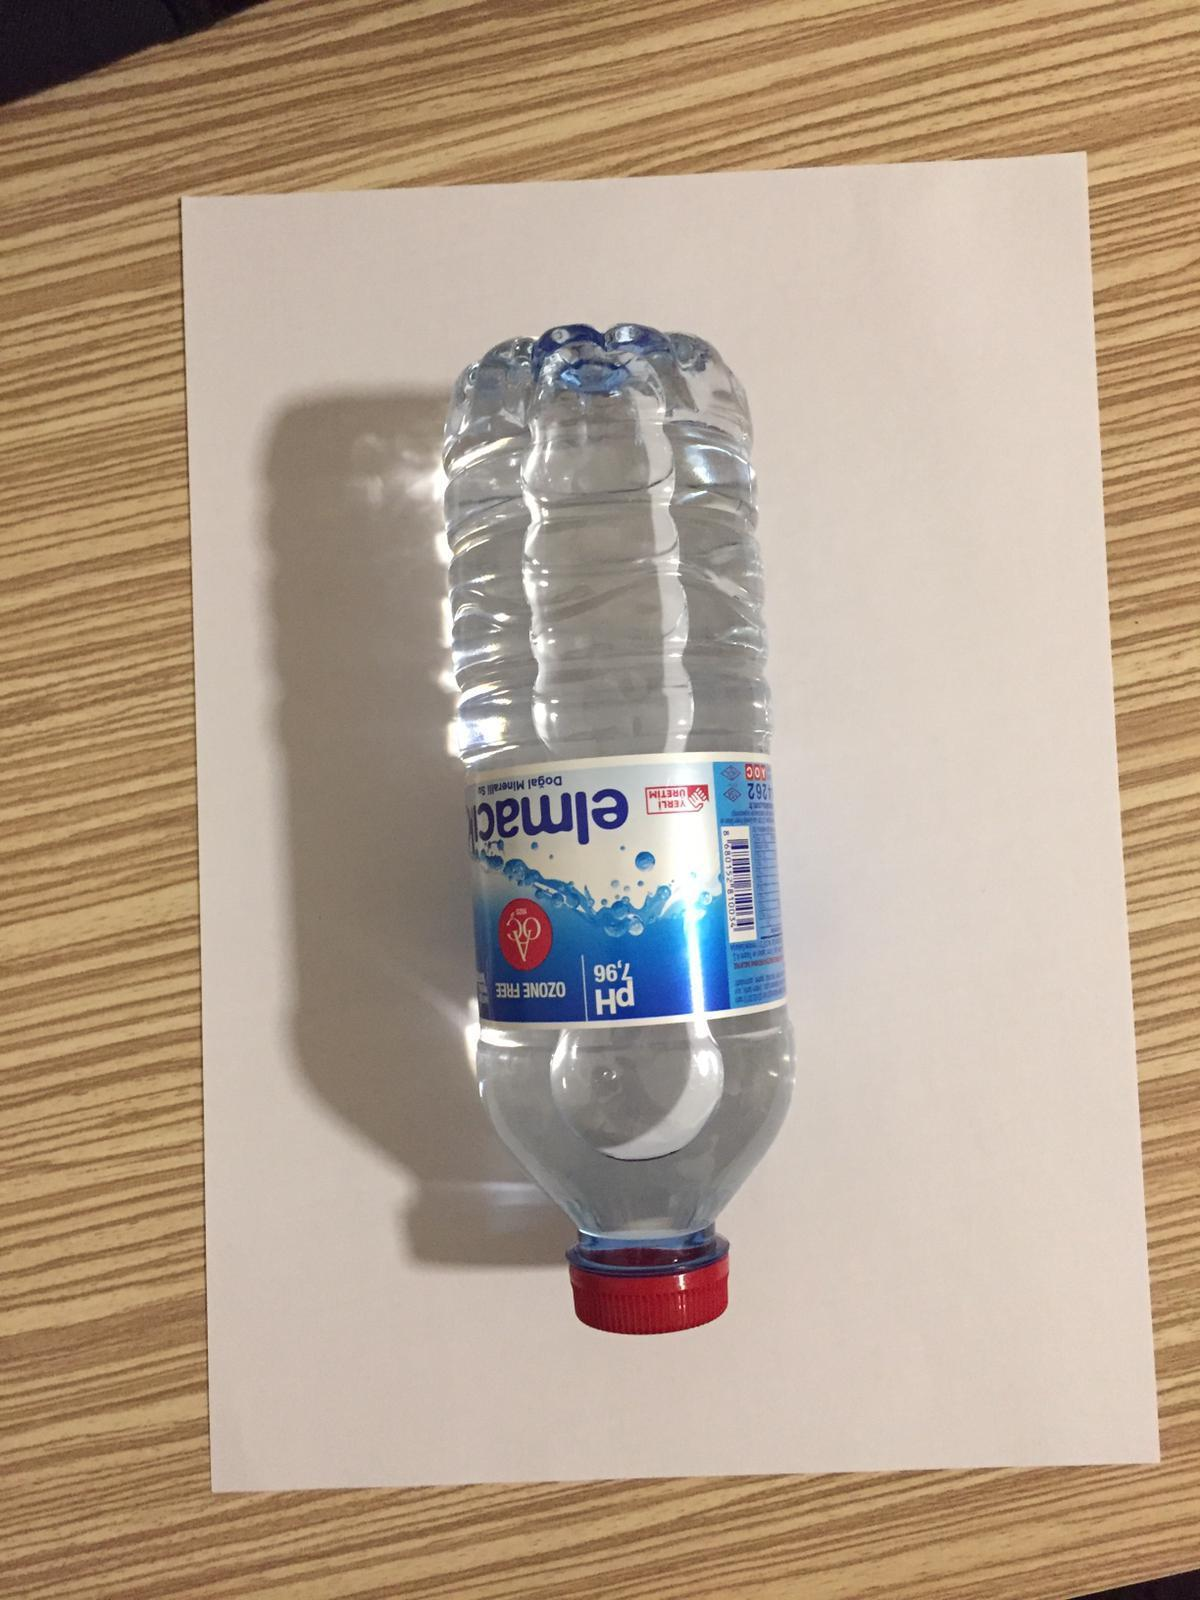bottle: (435, 317, 802, 1343)
